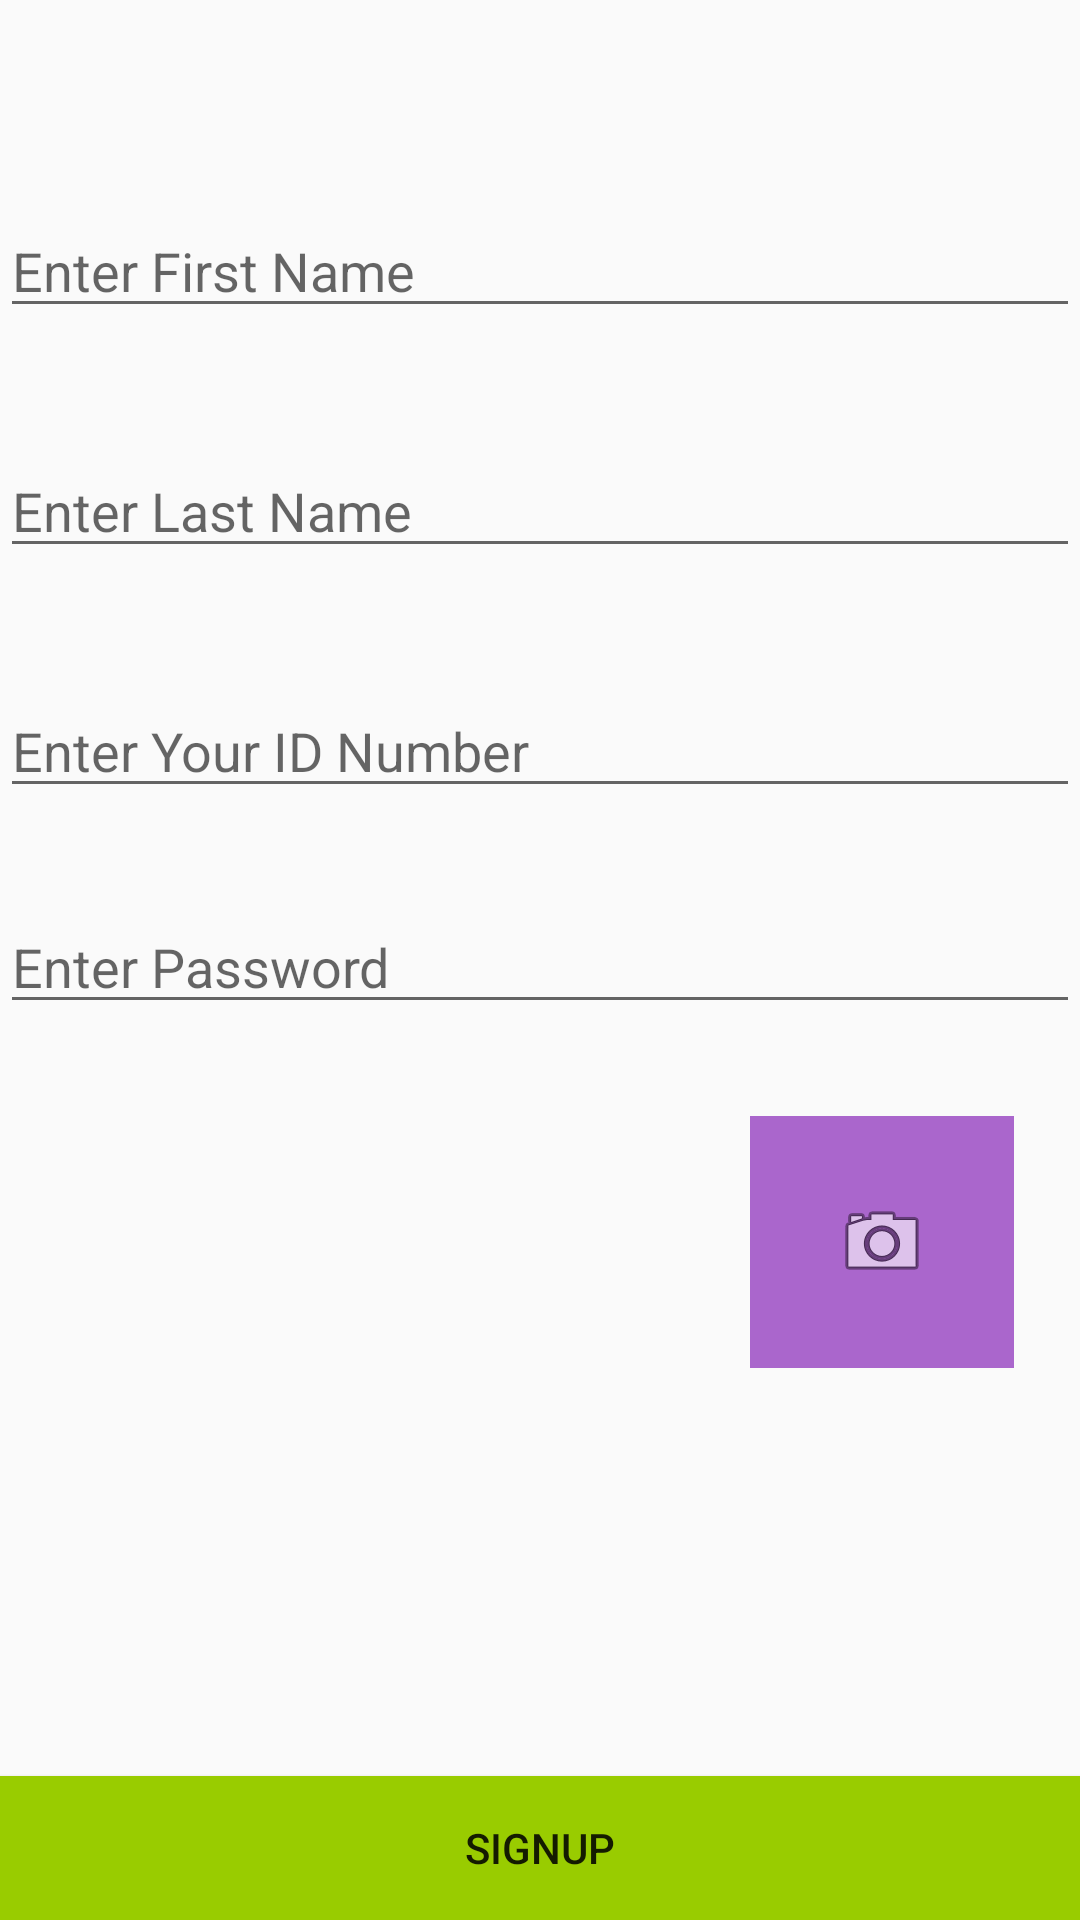

Icon click points for this 1080px×1920px phone screenshot, format point (x, y):
camera: point (882, 1242)
